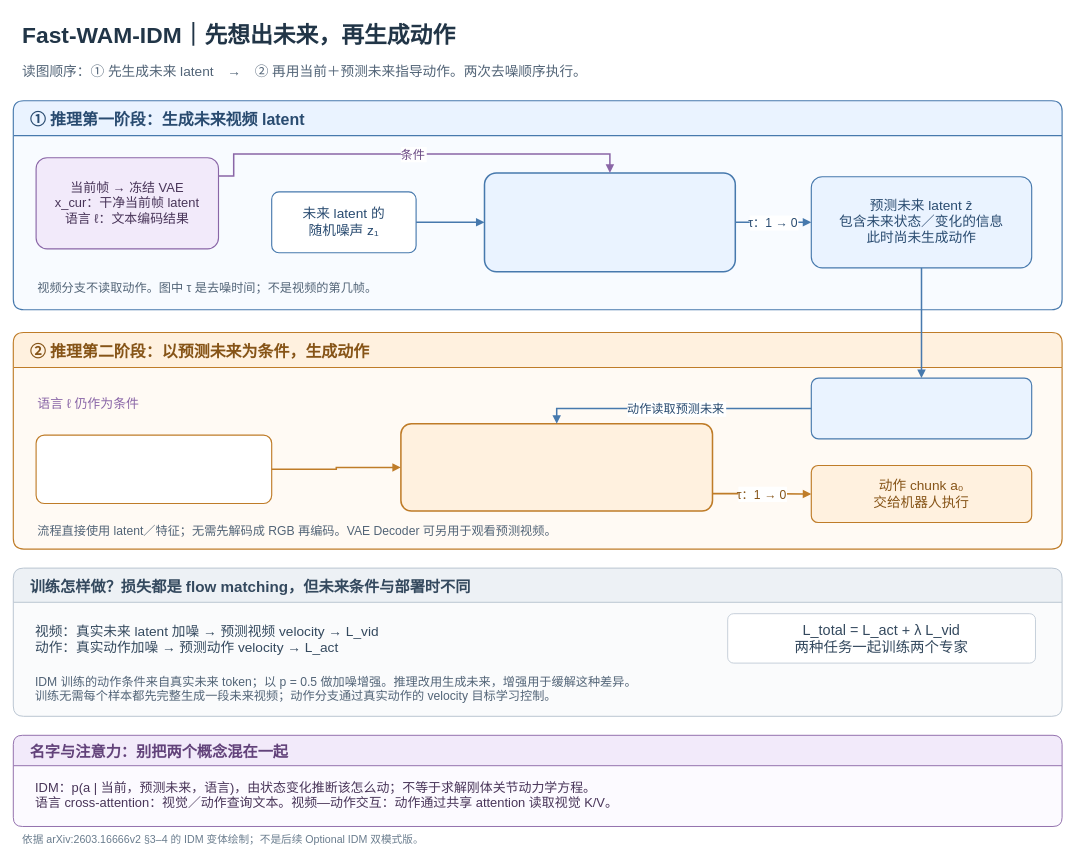
Image size: 1076x860. Some labels were removed from this diagram. Here are the shapes that lost their labels. From the top down, the centre of each, then its label:
(x=609, y=222): Video DiT 多步 flow z₁ → z_τ → z₀ 每步预测 velocity，再更新 latent
(x=921, y=408): 视觉条件 K/V（可缓存） 当前帧＋预测未来的特征
(x=153, y=469): 动作块的随机噪声 a₁ 不是已经确定的机器人动作
(x=556, y=467): Action DiT 多步 flow a₁ → a_τ → a₀ 动作 Q 读取视觉 K/V 与动作 K/V
